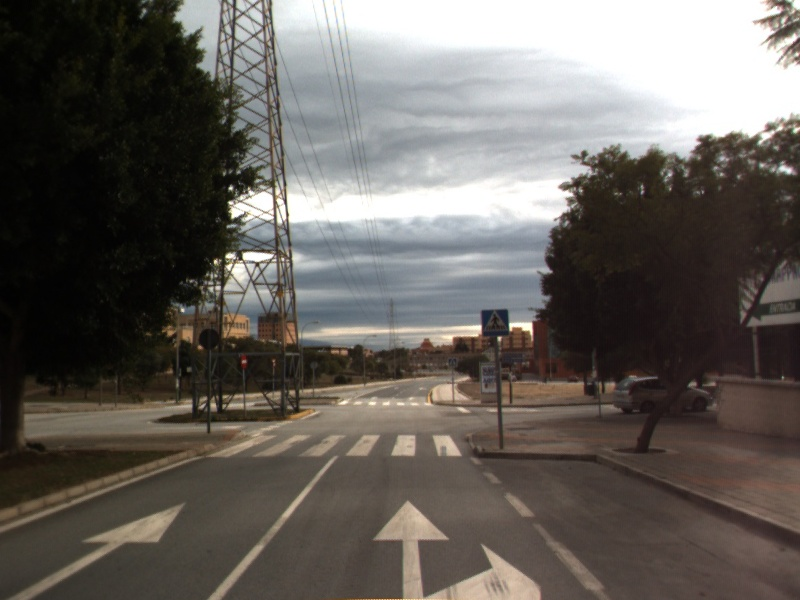STRAIGHT: (5, 498, 191, 600)
STRAIGHT_RIGHT: (368, 496, 547, 600)
